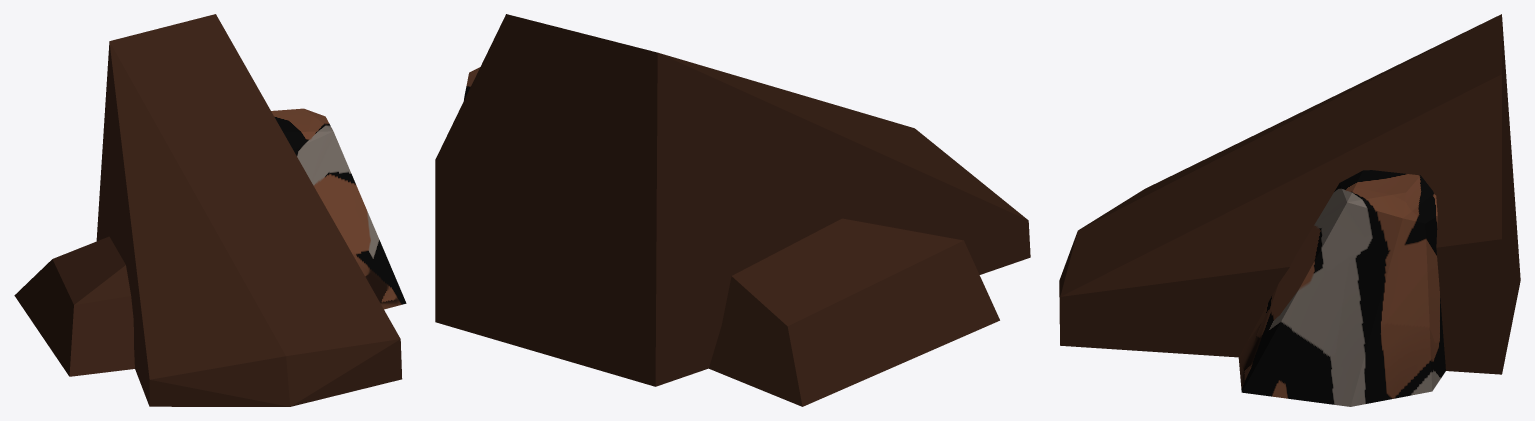
Rendered from Rock.fbx.
The picture shows the model from 3 angles, left to right: view 1: azimuth 30°, elevation 25°; view 2: azimuth 150°, elevation 25°; view 3: azimuth 270°, elevation 25°; orthographic projection. The views are drawn at different scales.
Parts seen in each view (by area): view 1: Rock; view 2: Rock; view 3: Rock.
Part boxes in pixels (<box>): Rock: <box>14,14,406,406</box>; Rock: <box>435,14,1030,406</box>; Rock: <box>1059,14,1520,406</box>.
Bounding box in the file's own units: 6.42 × 3.98 × 6.13.
